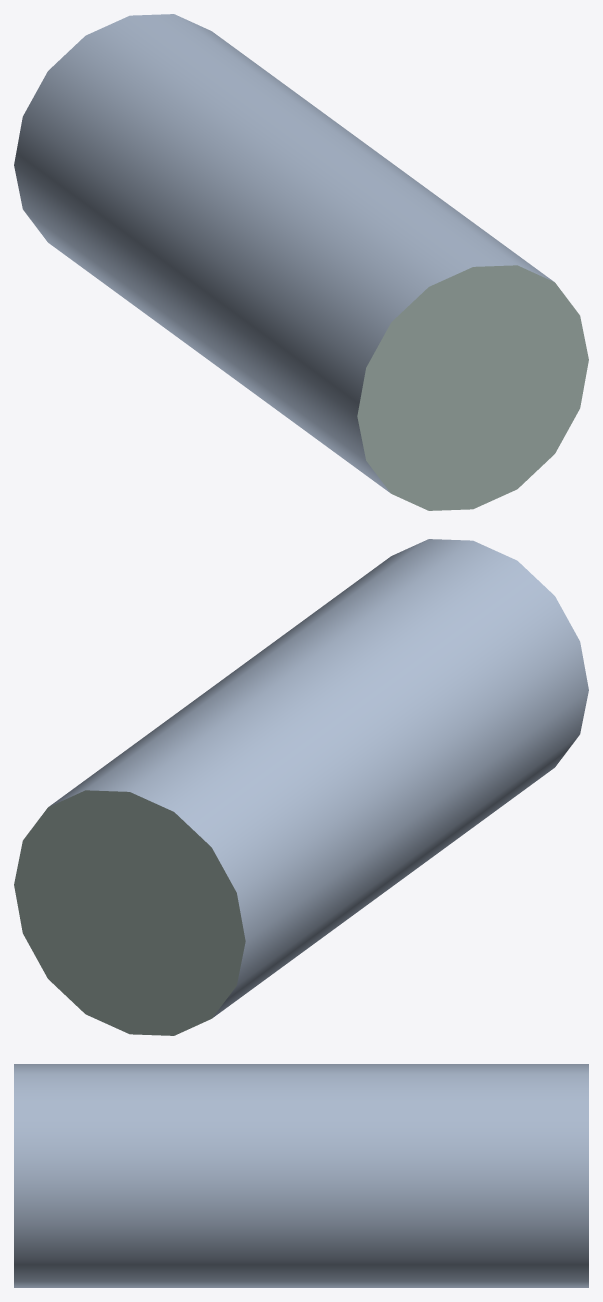
File: icub_neck_yaw_link.glb
3 renders of one model, top to bottom at view 1: azimuth 30°, elevation 25°; view 2: azimuth 150°, elevation 25°; view 3: azimuth 270°, elevation 25°, orthographic. The views are drawn at different scales.
Parts seen in each view (by area): view 1: neck_1_mesh; view 2: neck_1_mesh; view 3: neck_1_mesh.
Part boxes in pixels (left/top/right/bottom): neck_1_mesh: left=14, top=14, right=588, bottom=510; neck_1_mesh: left=14, top=539, right=588, bottom=1035; neck_1_mesh: left=14, top=1064, right=588, bottom=1287.
Bounding box in the file's own units: 0.03 × 0.03 × 0.077.
